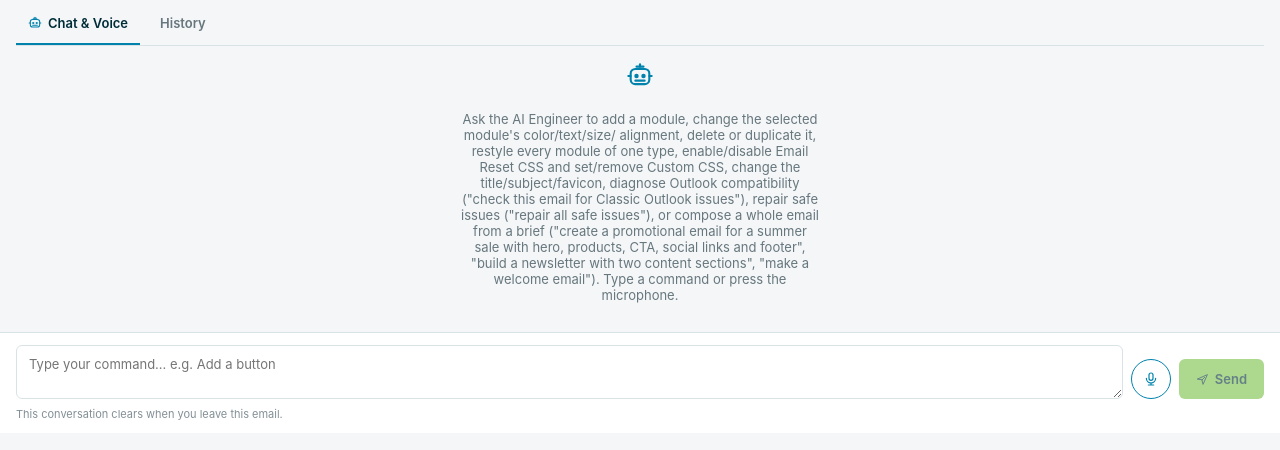
Test case: AIEngineerPanel › a destructive/multi-module proposal renders with confirm styling
Type "delete this" into the text box with placeholder "Type your command… e.g. Add a button" at {"x": 569, "y": 372}, box [16,345,1123,399]
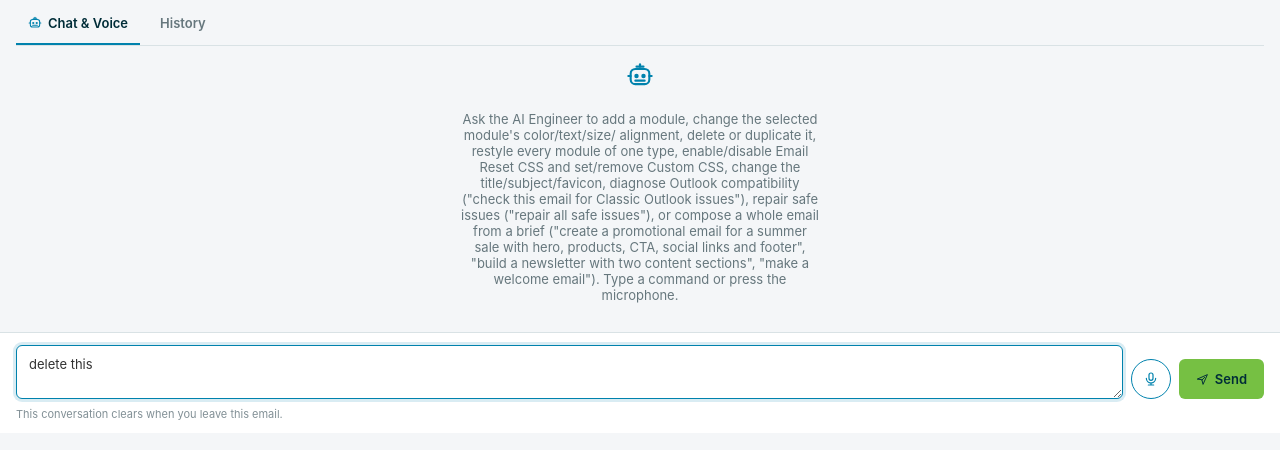
Click the button "Send" at {"x": 1221, "y": 379}, box [1179,359,1264,399]
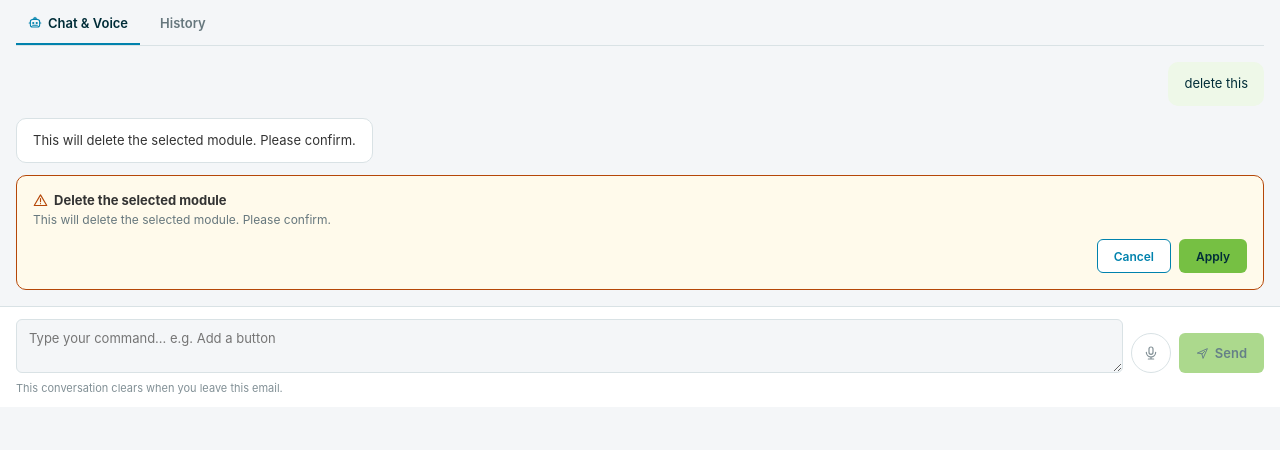
Result: the text "Delete the selected module" is shown at [33,192,227,208]
Result: the message with class "ai-engineer-panel__proposal--confirm" is shown at [16,175,1264,290]
